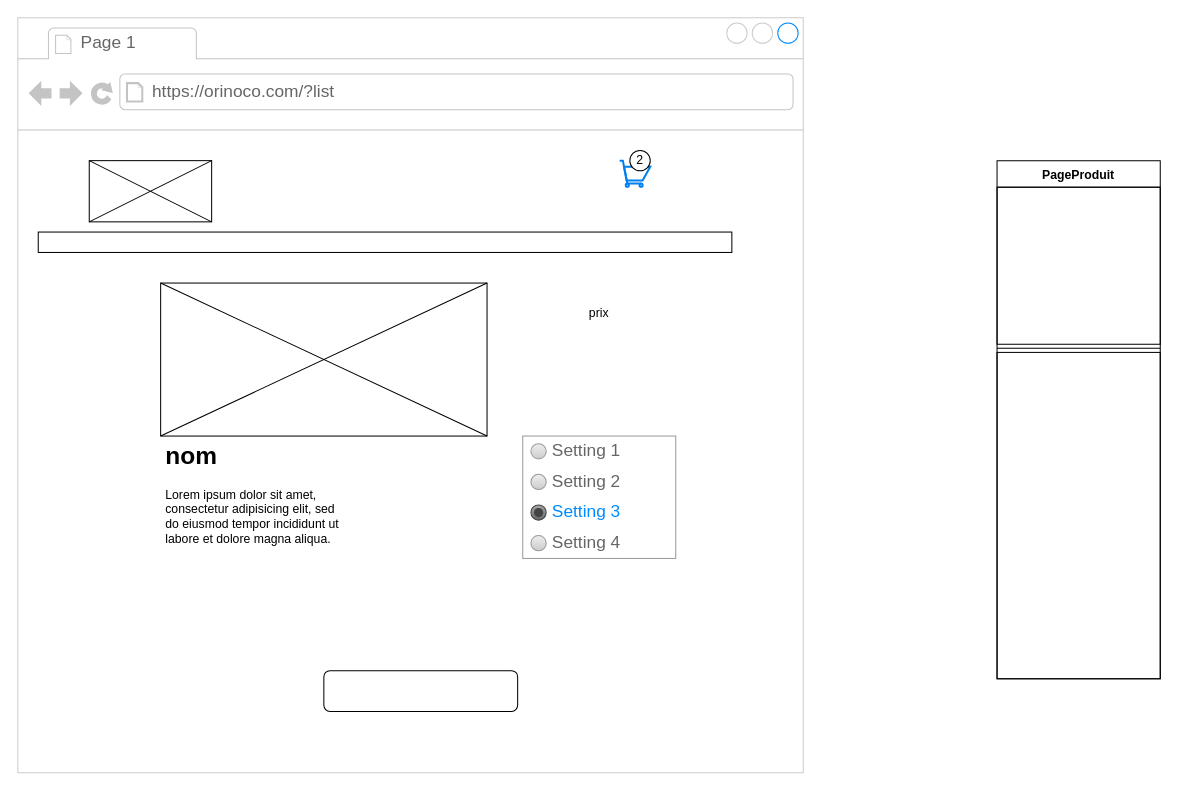
The diagram is 1178 pixels wide and 791 high, and some of its shapes have lost their labels. The shapes that lost their labels are listed below. From the top down, each one's box as (x1, y1, x2, y2) in pixels, then its label:
(37, 231, 732, 252): orinokids > accueil > fiche produit
(996, 186, 1160, 344): + nom + description + prix + variantes
(996, 351, 1160, 679): + ajouter au panier
(323, 670, 518, 711): ajouter au panier
